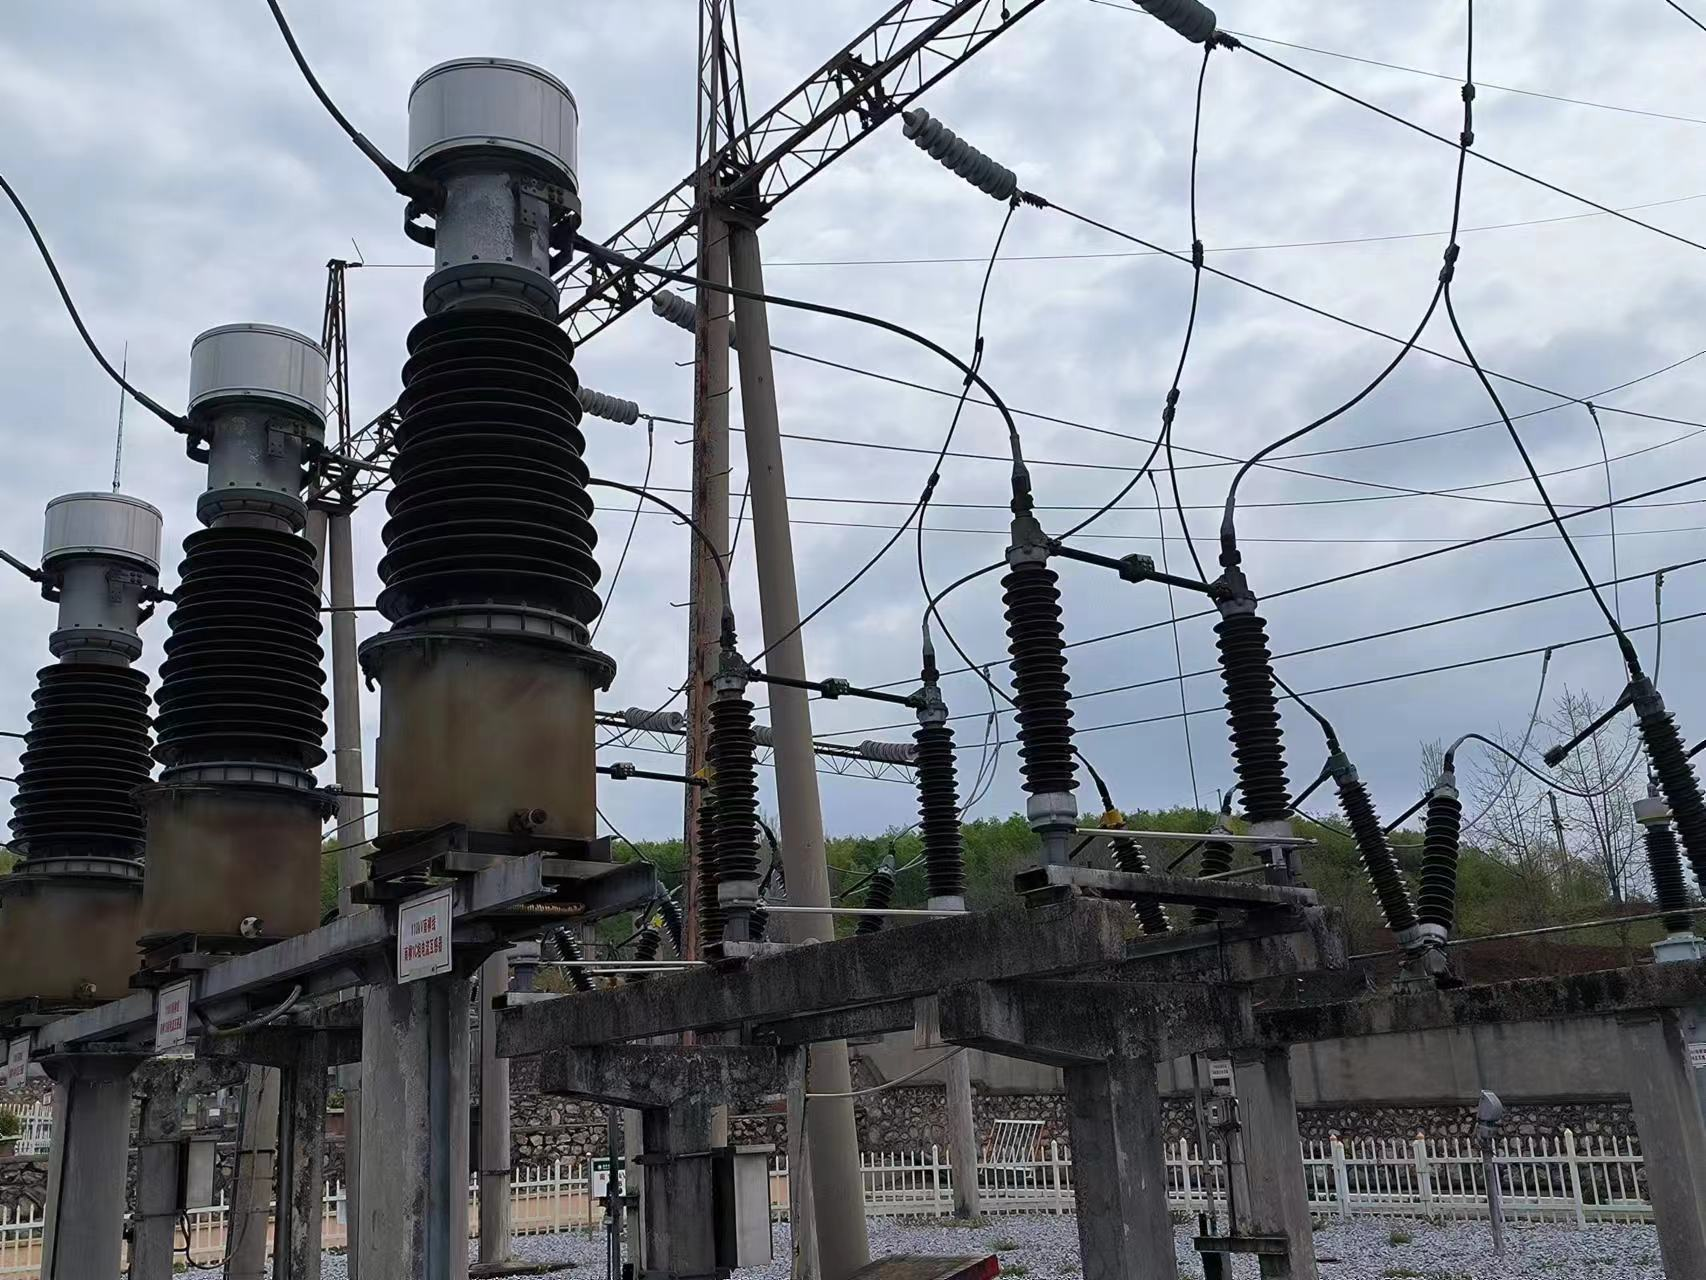Current transformer: (372, 58, 610, 846), (149, 325, 339, 934), (7, 485, 167, 995)
